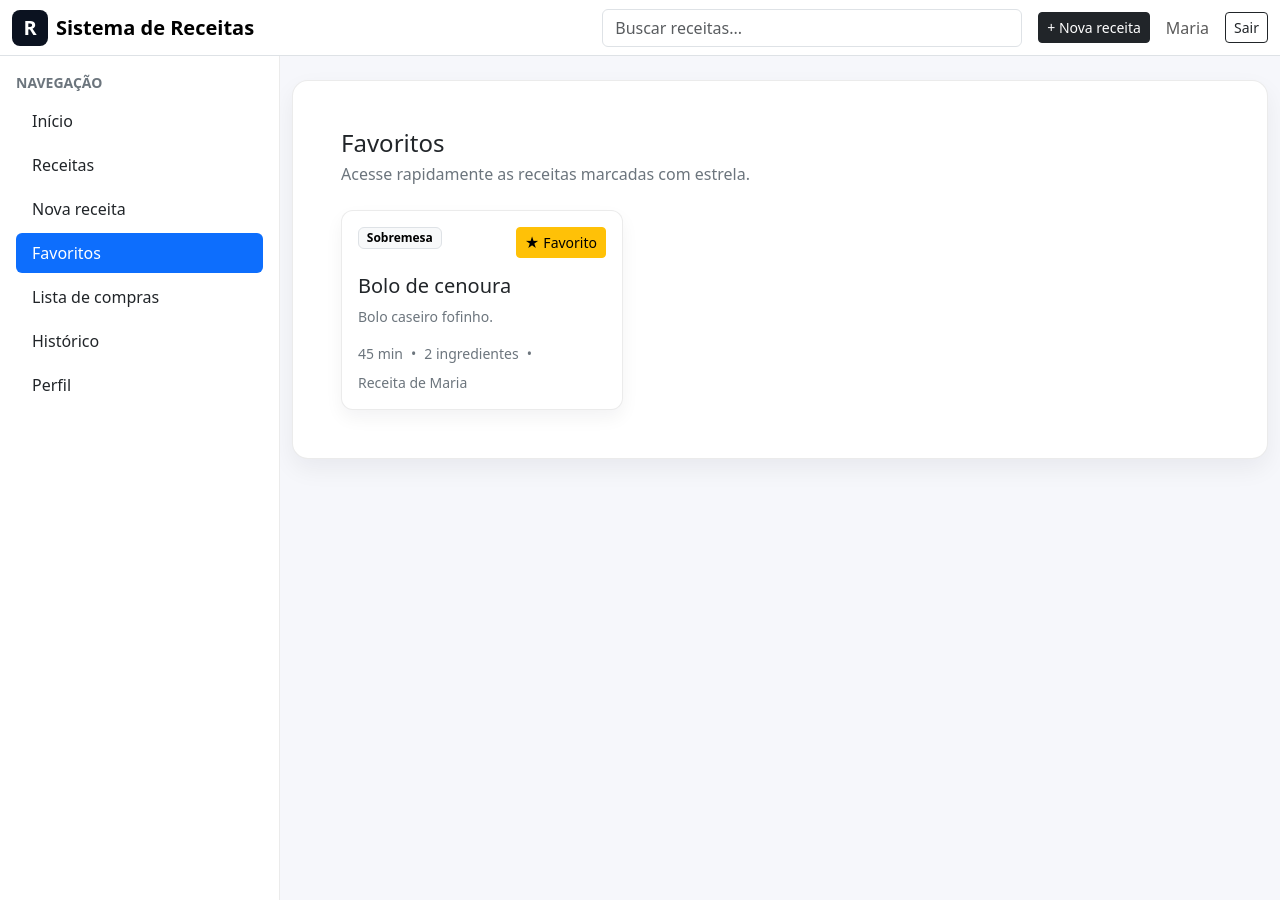
Test: favorites page › removes a favorite from the favorites page
Expected: the link "Bolo de cenoura" is shown, [358,272,532,392]
Click the button with aria-label "remover dos favoritos bolo de cenoura". click: (561, 242)
box: [516,227,606,258]
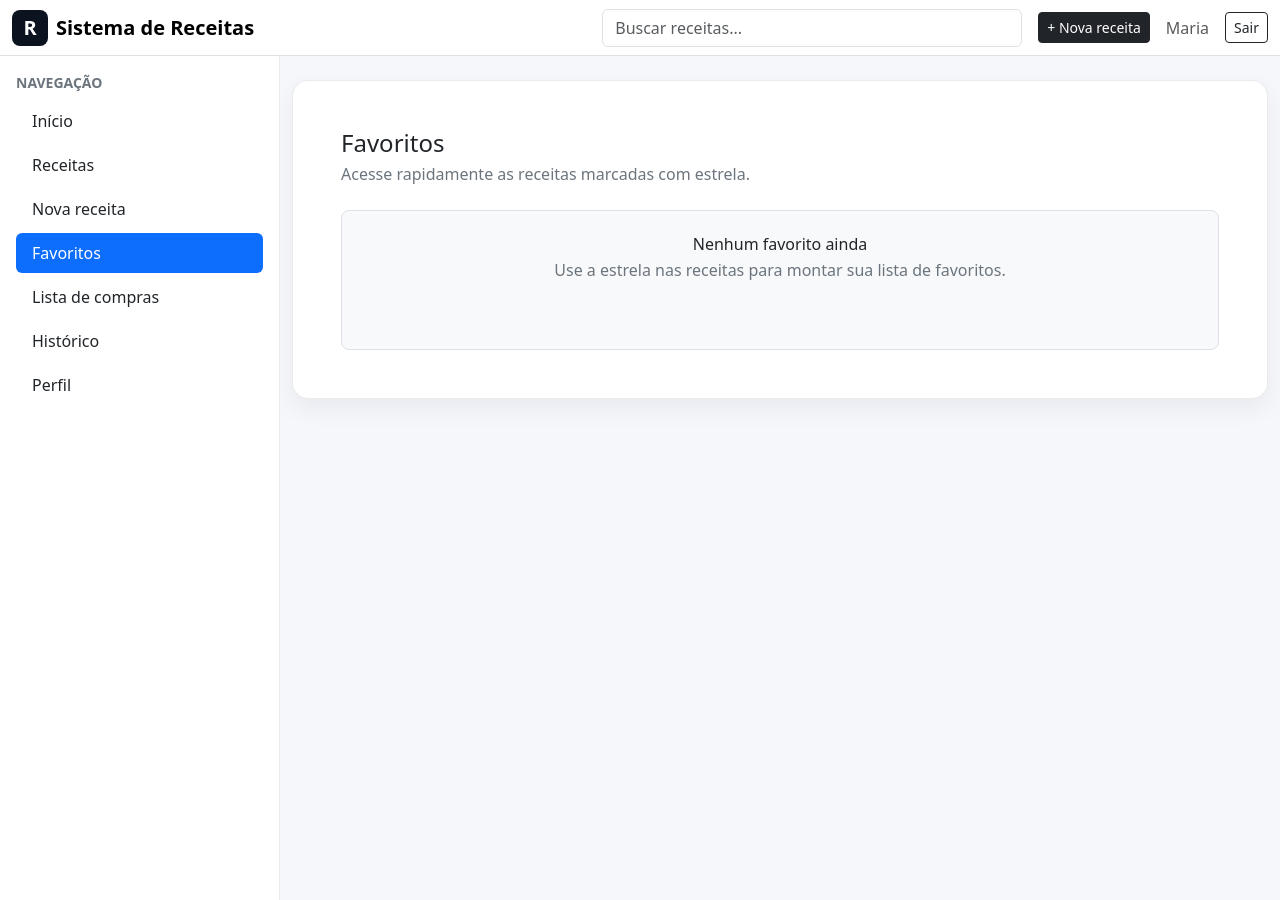
Expected: the heading "Nenhum favorito ainda" is shown, [693,233,867,255]
